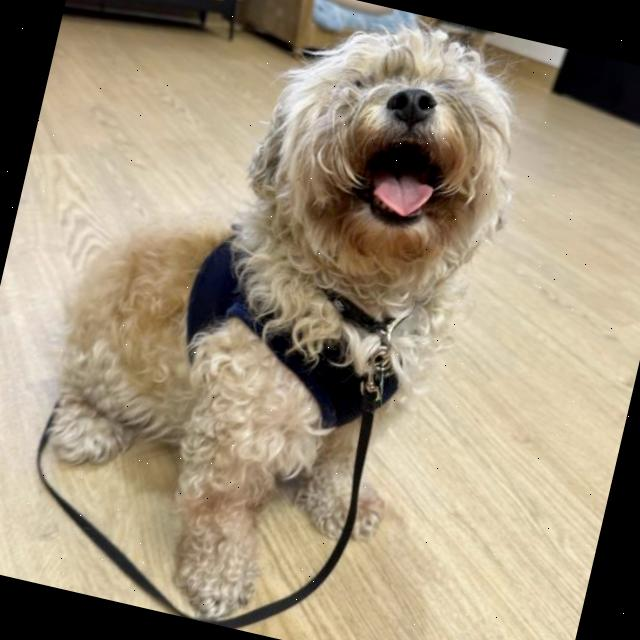Poodle_dog: (219, 0, 563, 325)
